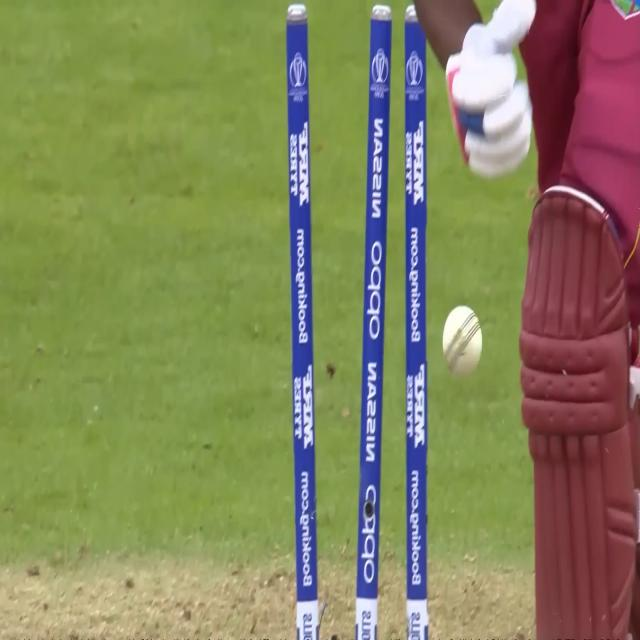ball: (439, 306, 486, 376)
